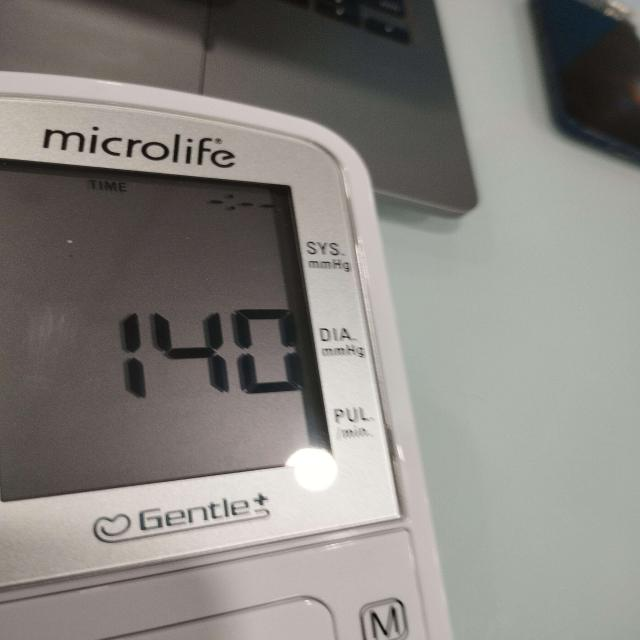bp: (0, 72, 454, 640)
